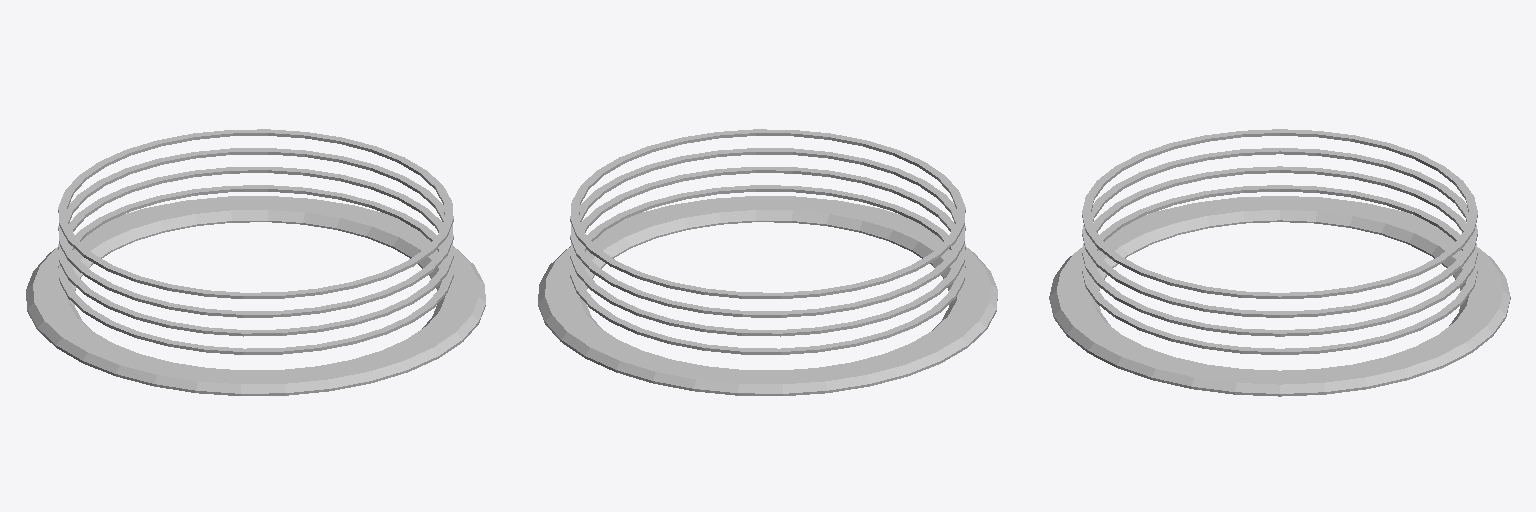
File: teleportPointDown.obj
The picture shows the model from 3 angles: view 1: azimuth 30°, elevation 25°; view 2: azimuth 150°, elevation 25°; view 3: azimuth 270°, elevation 25°; orthographic projection.
Parts seen in each view (by area): view 1: Circle; view 2: Circle; view 3: Circle.
Boxes of the visible parts, x1,y1,x2,y2 form: Circle: [26, 129, 485, 395]; Circle: [538, 129, 997, 395]; Circle: [1049, 129, 1510, 396].
Bounding box in the file's own units: 2.25 × 0.4636 × 2.25.